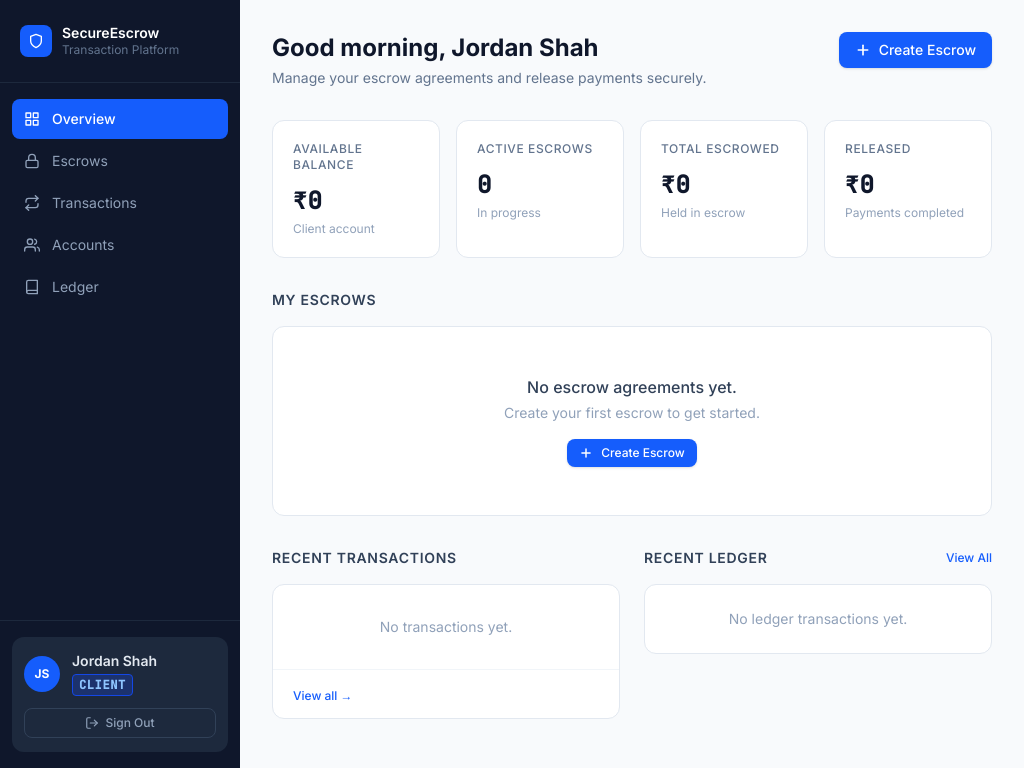
Test: dashboard initial data loading › shows escrow, milestone, and account names in Transactions and Ledger
This screenshot has width=1024, height=768.
Click the button "Transactions" at (120, 202), box [12,182,228,222]
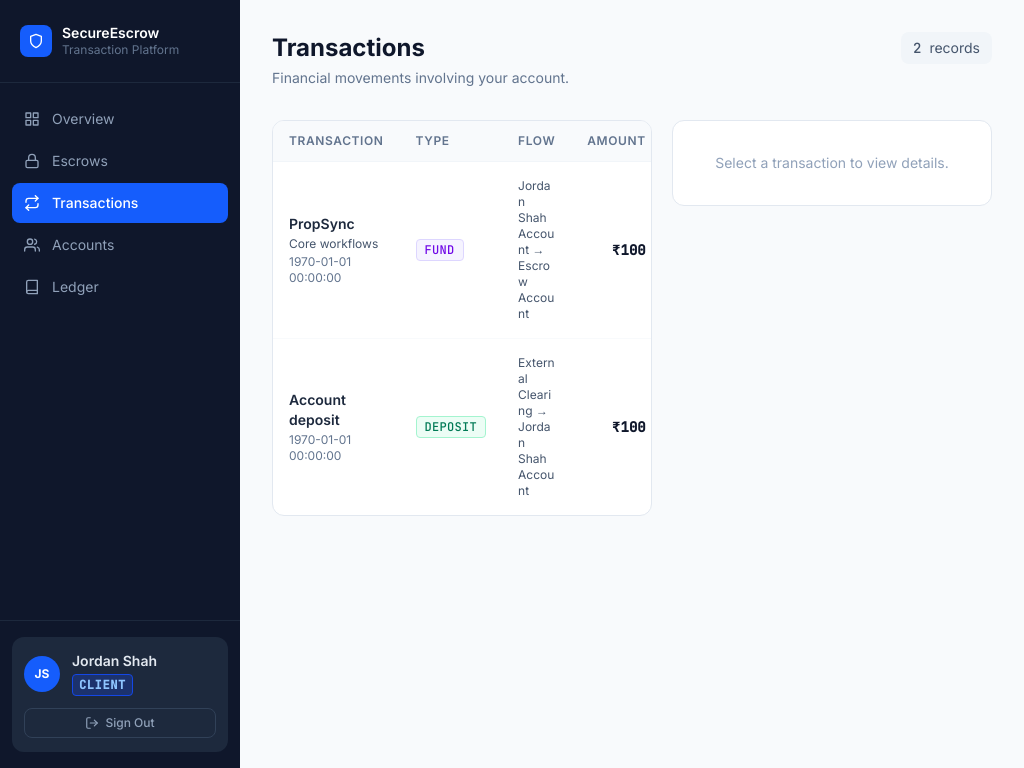
Result: the text "Core workflows" is shown at [289,236,384,252]
Result: the text "Jordan Shah Account → Escrow Account" is shown at [502,162,571,338]
Result: the text "External Clearing → Jordan Shah Account" is shown at [502,338,571,515]
Click the button "PropSync" at (322, 224), box [289,214,355,234]
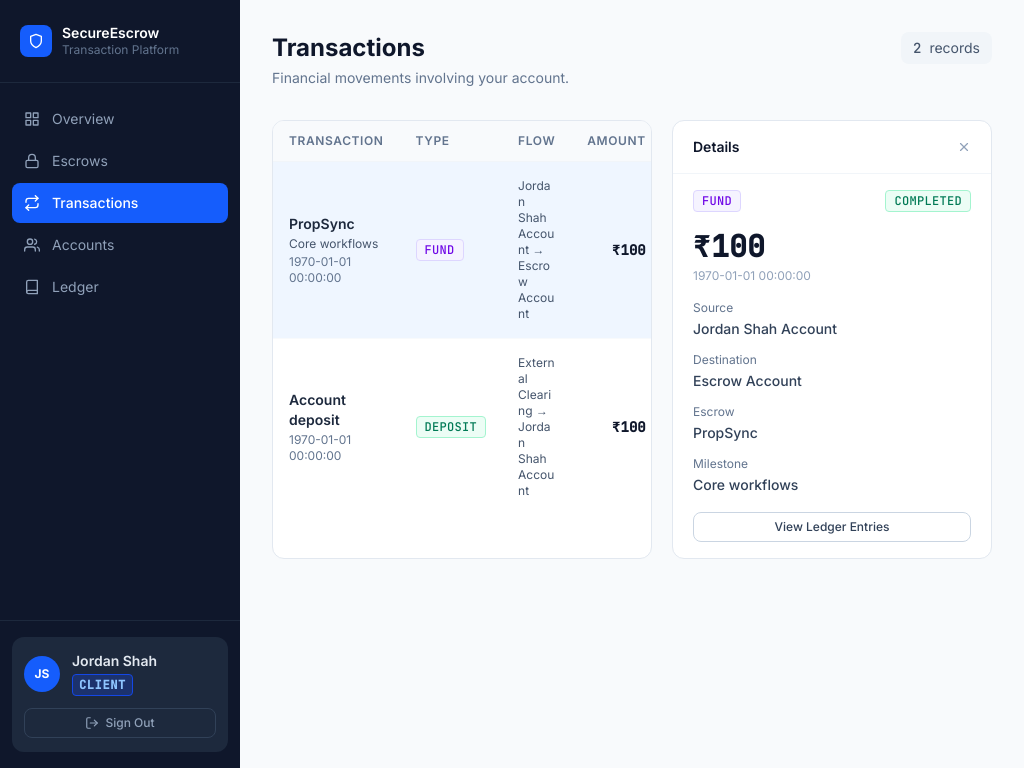
Result: the heading "Details" is shown at [693,137,740,157]
Result: the text "Core workflows" is shown 2 times at [289,236,384,252]; [693,476,798,493]
Click the button "View Ledger Entries" at (832, 527), box [693,512,971,542]
(page scrolled)
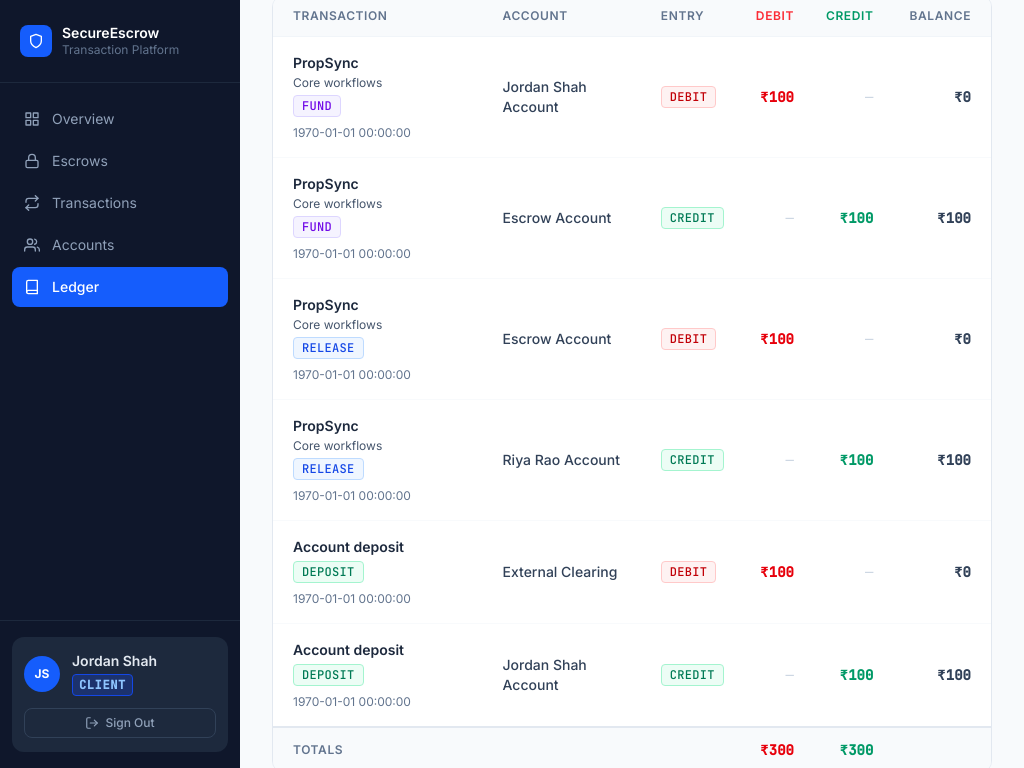
Result: the text "Riya Rao Account" is shown at [486,400,645,520]
Result: the text "PropSync" is shown 4 times at [293,54,359,71]; [293,175,359,192]; [293,296,359,313]; [293,417,359,434]
Result: the text "Core workflows" is shown 4 times at [293,75,382,90]; [293,196,382,211]; [293,317,382,332]; [293,438,382,453]
